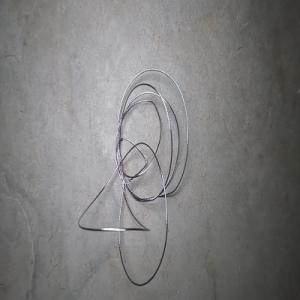Wire: (77, 68, 188, 286)
